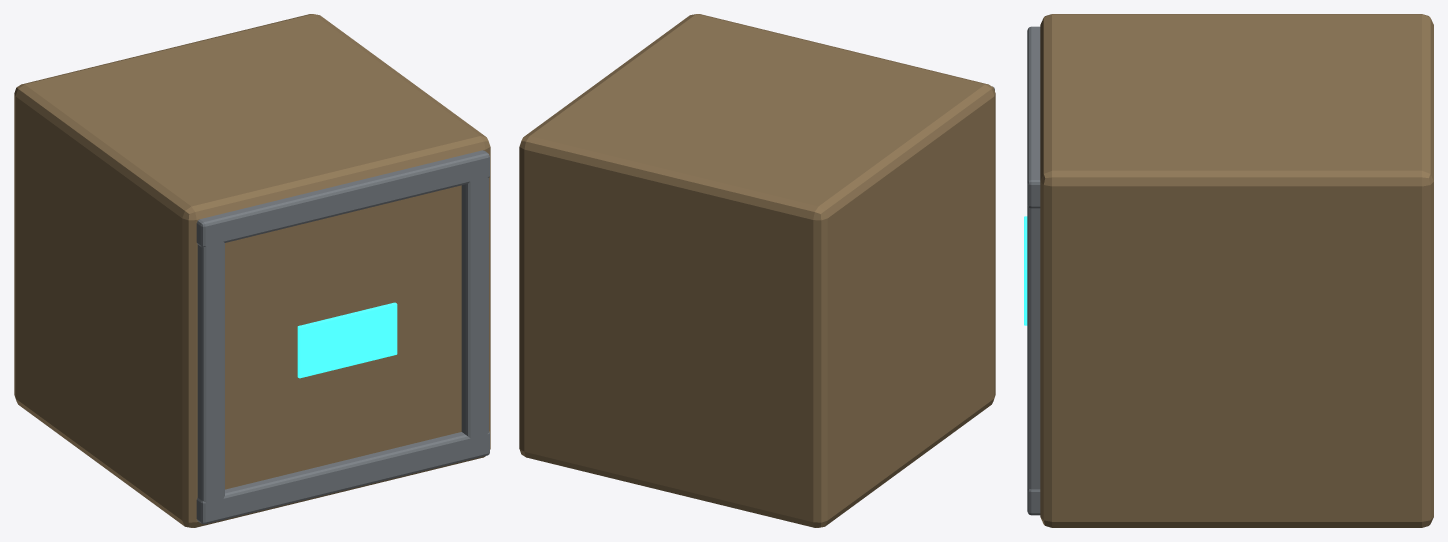
The model's file is cover_crate.glb.
3 renders of one model, left to right at view 1: azimuth 30°, elevation 25°; view 2: azimuth 150°, elevation 25°; view 3: azimuth 270°, elevation 25°, orthographic. The views are drawn at different scales.
Visible parts, largest first — view 1: Crate core, Horizontal brace.001, Horizontal brace, Vertical brace.001, Vertical brace, Aurora cargo mark; view 2: Crate core; view 3: Crate core, Vertical brace.001, Horizontal brace.001.
Part boxes in pixels (x1,y1,x2,y2): Crate core: [14, 14, 490, 527]; Horizontal brace.001: [196, 150, 489, 247]; Horizontal brace: [196, 431, 489, 524]; Vertical brace.001: [461, 151, 488, 459]; Vertical brace: [197, 219, 224, 523]; Aurora cargo mark: [297, 302, 397, 378]; Crate core: [519, 14, 995, 527]; Crate core: [1040, 14, 1433, 527]; Vertical brace.001: [1027, 171, 1040, 489]; Horizontal brace.001: [1027, 26, 1040, 208].
Bounding box in the file's own units: 2 × 2 × 2.08.
